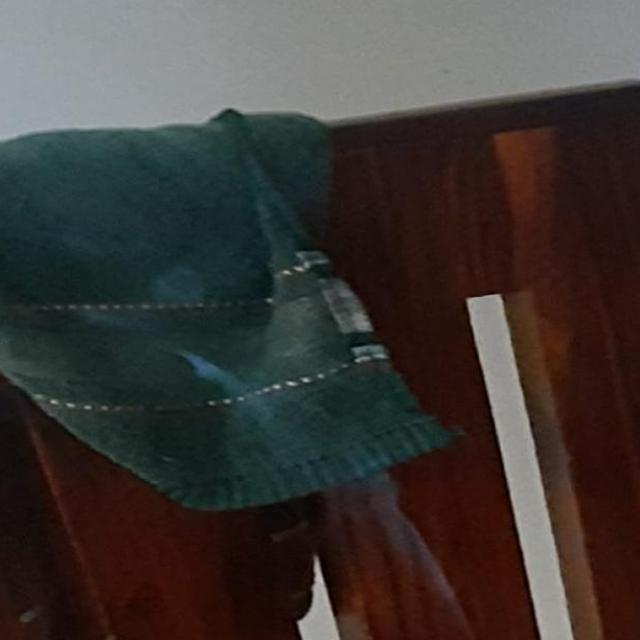fire: (98, 227, 473, 640)
